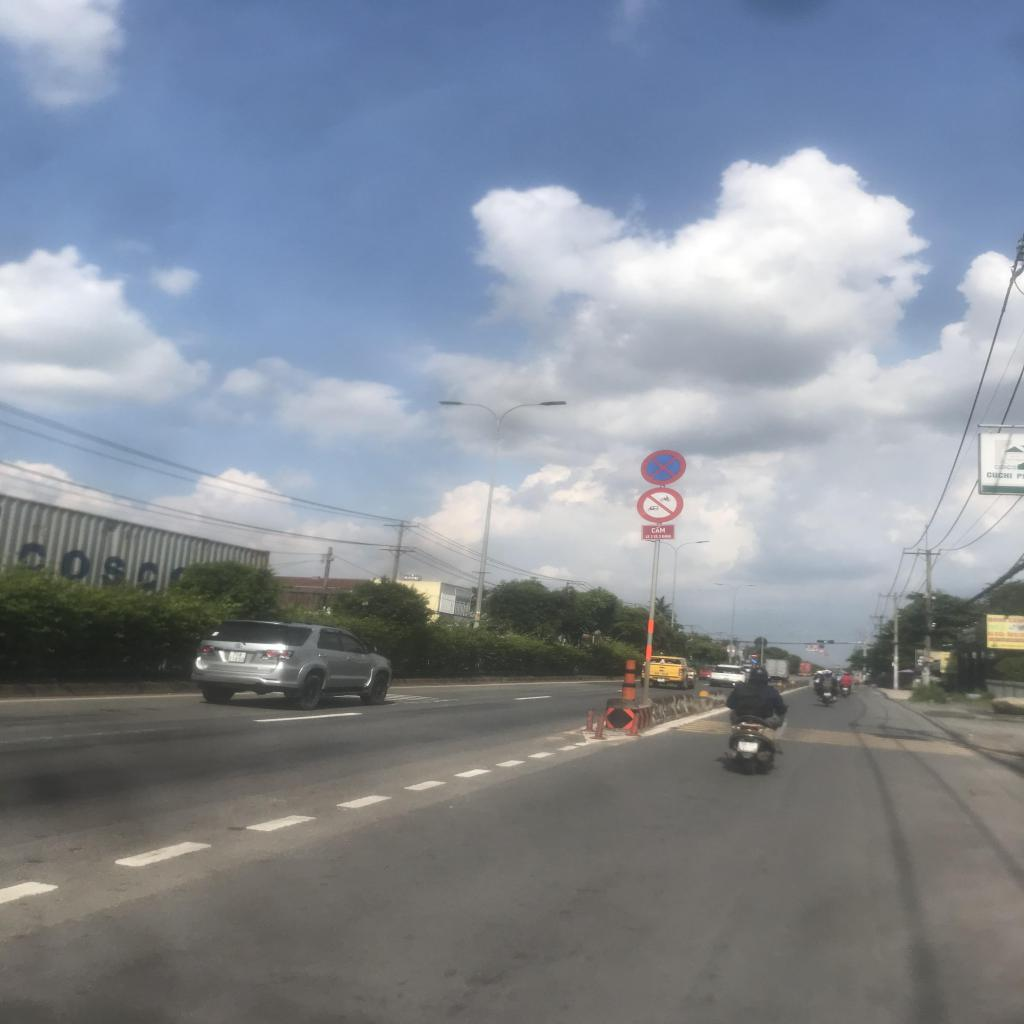cam_dung_xe_va_do_xe: (639, 450, 686, 486)
cam_xe_2_banh_va_xe_3_banh_co_dong_co: (635, 486, 685, 524)
